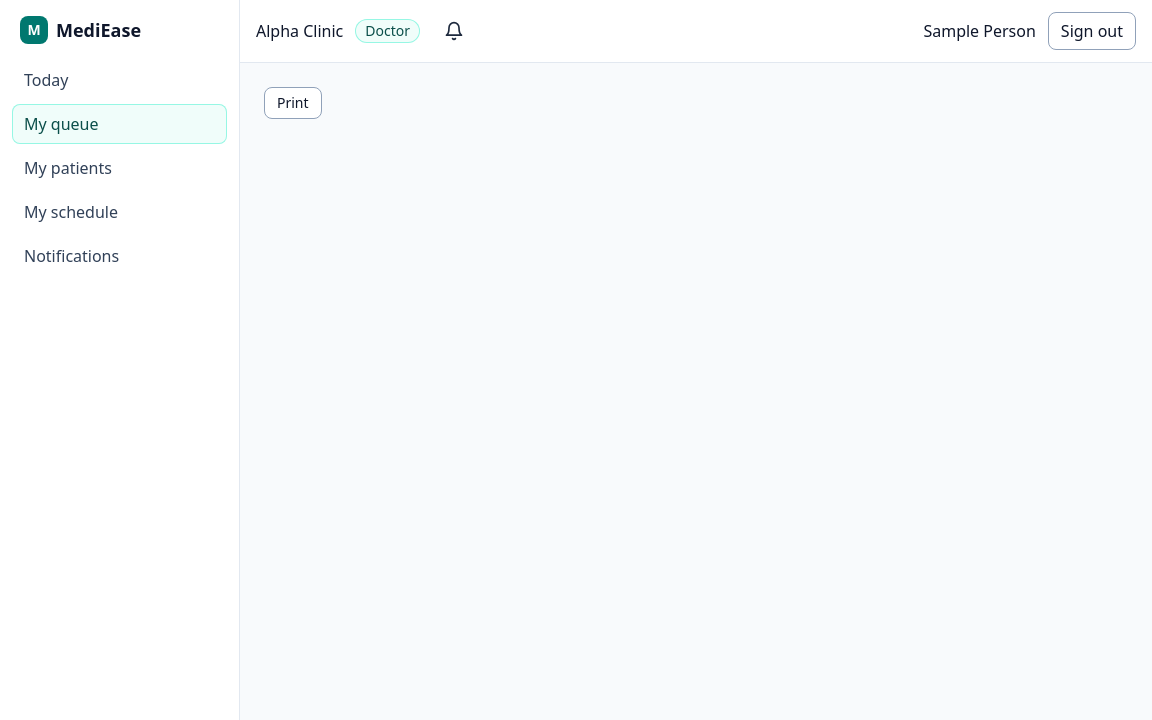
printing (M4-P4, spec D6) › a failed PDF closes the empty tab and says why
The width and height of the screenshot is (1152, 720).
Click the button with aria-label "Print the prescription".
click(293, 103)  # box x1=264 y1=87 x2=322 y2=119
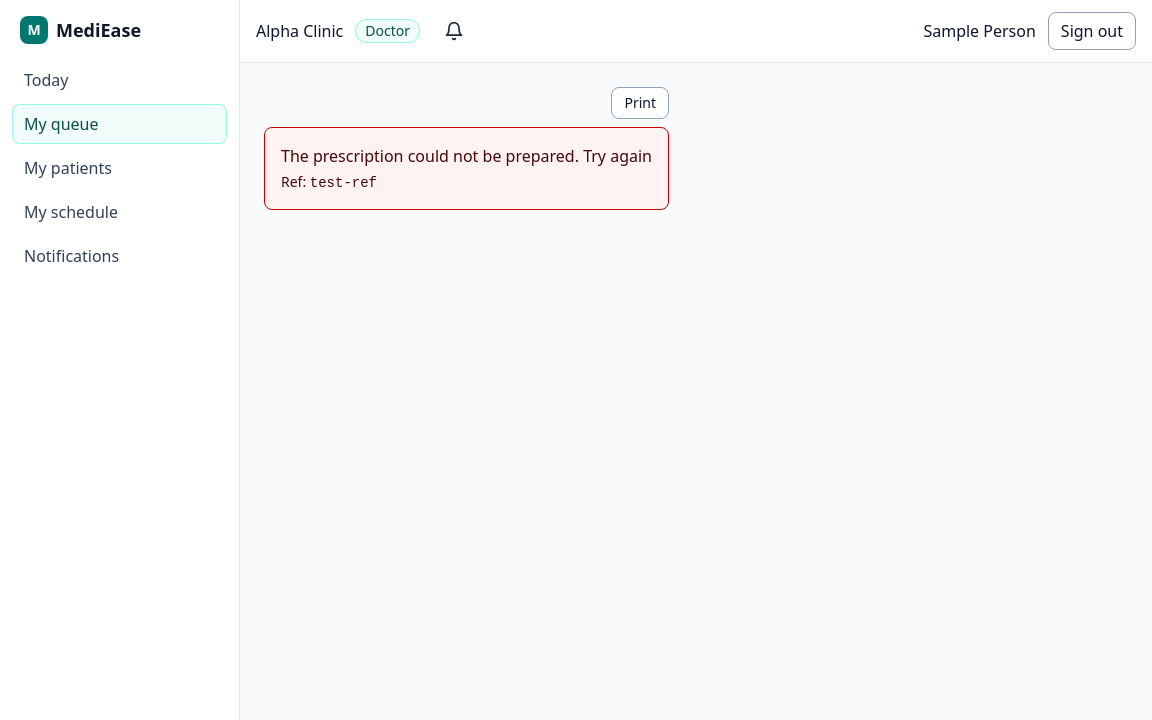
Result: the message shows "The prescription could not be prepared" at x1=281 y1=145 x2=652 y2=167
